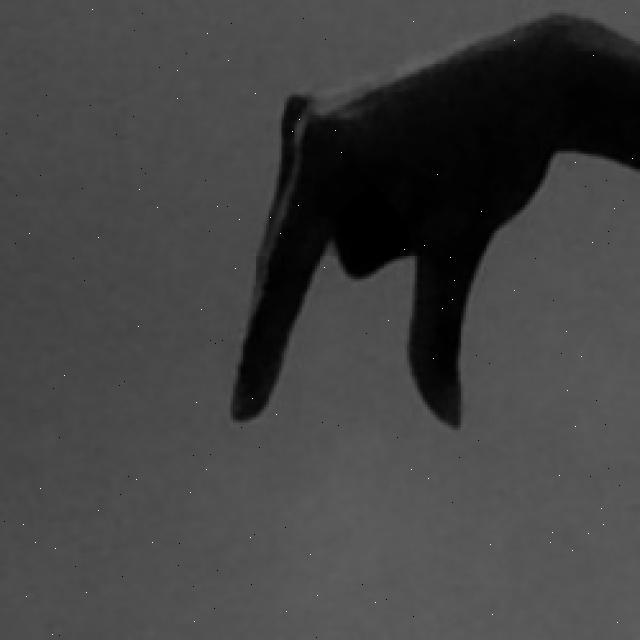Q: (222, 5, 640, 435)
